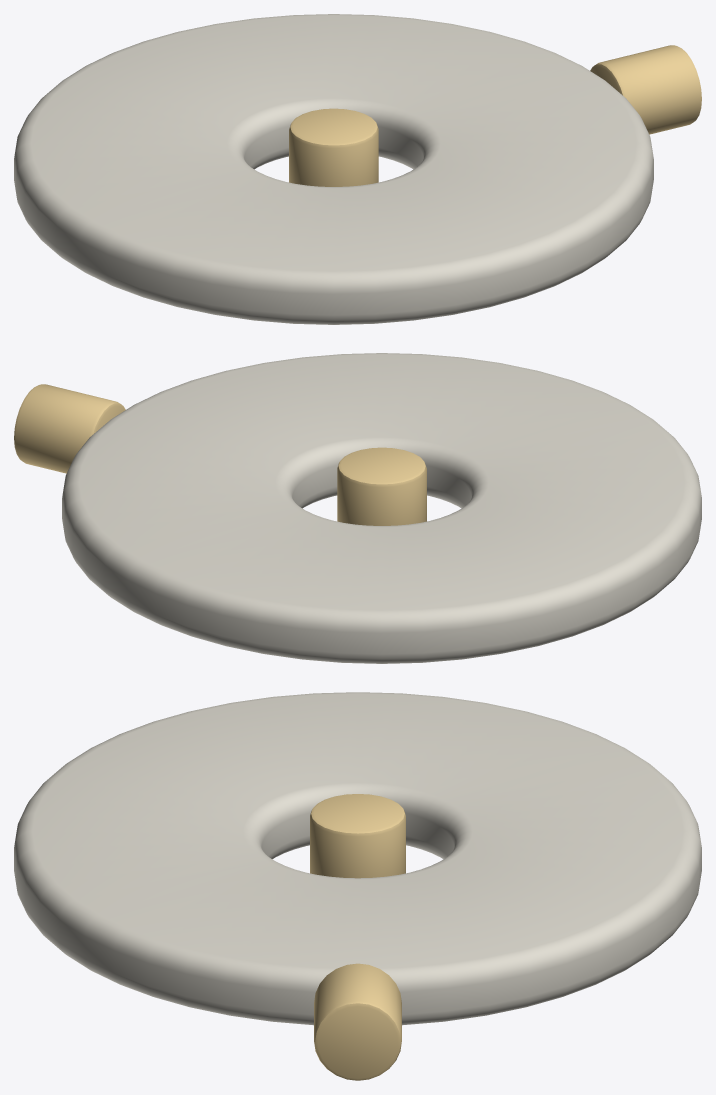
The model's file is HID-INC-002.glb.
The picture shows the model from 3 angles, top to bottom: view 1: azimuth 30°, elevation 25°; view 2: azimuth 150°, elevation 25°; view 3: azimuth 270°, elevation 25°; orthographic projection. The views are drawn at different scales.
Visible parts, largest first — view 1: HID-INC-002_mangueira, HID-INC-002_junta_int, HID-INC-002_junta_ext; view 2: HID-INC-002_mangueira, HID-INC-002_junta_int, HID-INC-002_junta_ext; view 3: HID-INC-002_mangueira, HID-INC-002_junta_ext, HID-INC-002_junta_int.
Boxes of the visible parts, left/top/right/bottom form: HID-INC-002_mangueira: left=14, top=14, right=653, bottom=324; HID-INC-002_junta_int: left=289, top=108, right=378, bottom=186; HID-INC-002_junta_ext: left=590, top=45, right=701, bottom=134; HID-INC-002_mangueira: left=62, top=353, right=701, bottom=663; HID-INC-002_junta_int: left=337, top=447, right=426, bottom=525; HID-INC-002_junta_ext: left=14, top=384, right=125, bottom=473; HID-INC-002_mangueira: left=14, top=692, right=701, bottom=1025; HID-INC-002_junta_ext: left=314, top=963, right=401, bottom=1080; HID-INC-002_junta_int: left=310, top=794, right=405, bottom=878.
Size of the model in its own units: 0.565 by 0.0695 by 0.5.
